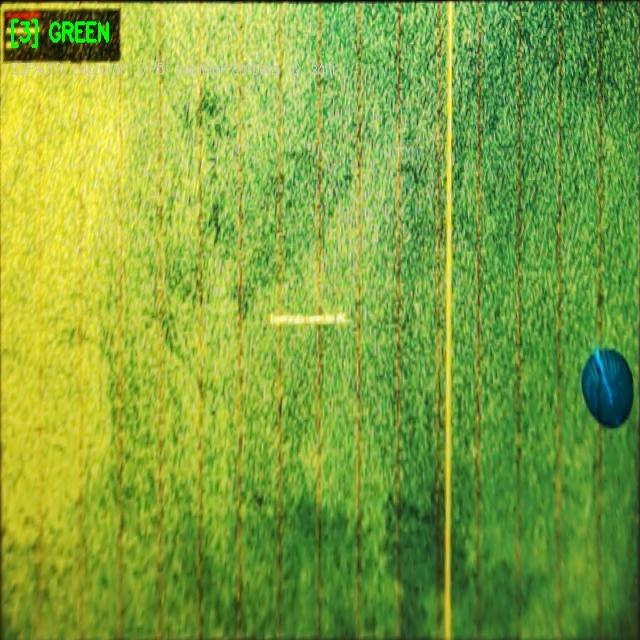green: (582, 346, 635, 431)
